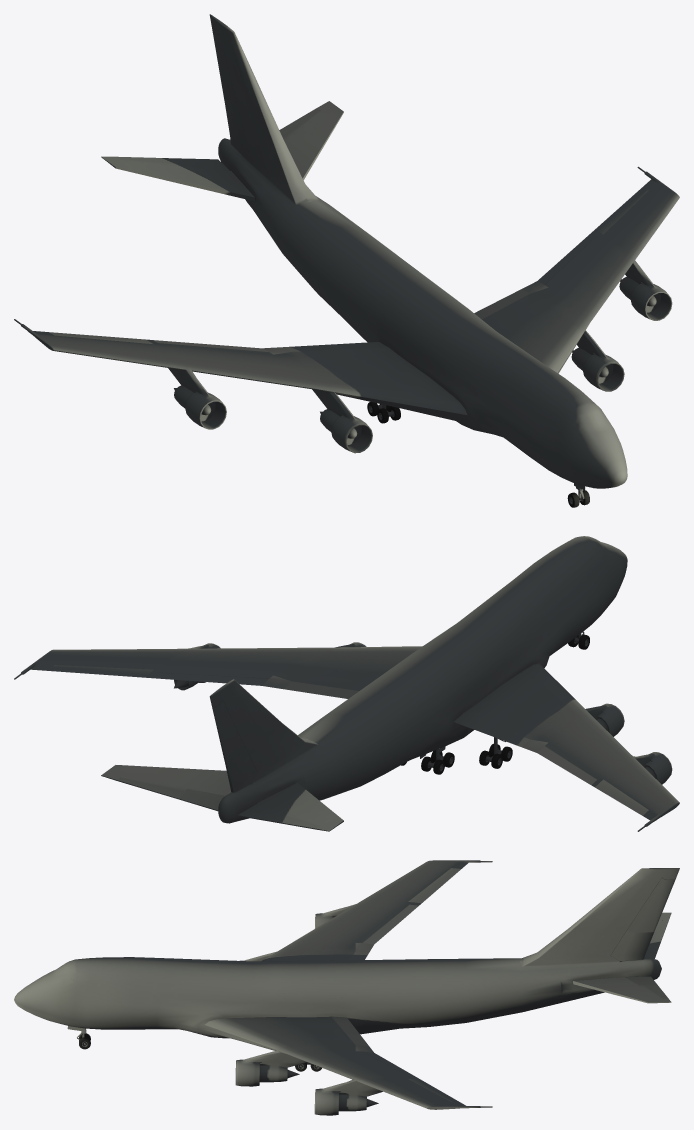
File: boeing_747-100.gltf
3 renders of one model, top to bottom at view 1: azimuth 30°, elevation 25°; view 2: azimuth 150°, elevation 25°; view 3: azimuth 270°, elevation 25°, orthographic. The views are drawn at different scales.
Visible parts, largest first — view 1: body obj, stabilizer R, stabilizer L, rudder upper obj; view 2: body obj, stabilizer L, stabilizer R, rudder upper obj, rudder lower obj, flap R inboard obj, flap L outboard obj, aileron L outboard.001, flap L inboard obj, elevator L outboard obj, flap R outboard obj, elevator L inboard obj (+2 smaller); view 3: body obj, stabilizer L, rudder upper obj, rudder lower obj, flap R outboard obj, aileron R outboard, flap L inboard obj.
Part boxes in pixels (x1,y1,x2,y2): body obj: (14,14,679,488); stabilizer R: (101,156,254,201); stabilizer L: (285,101,343,180); rudder upper obj: (212,30,239,114); body obj: (14,536,679,831); stabilizer L: (101,765,230,795); stabilizer R: (257,782,343,831); rudder upper obj: (212,700,245,763); rudder lower obj: (225,749,257,792); flap R inboard obj: (454,713,529,747); flap L outboard obj: (152,672,268,685); aileron L outboard.001: (48,665,153,677); flap L inboard obj: (284,681,358,698); elevator L outboard obj: (117,777,186,798); flap R outboard obj: (537,746,596,785); elevator L inboard obj: (178,789,224,811); body obj: (14,860,679,1115); stabilizer L: (573,977,671,1003); rudder upper obj: (627,878,675,932); rudder lower obj: (610,930,654,960); flap R outboard obj: (362,904,418,944); aileron R outboard: (408,868,460,903); flap L inboard obj: (332,1017,368,1046).
Bounding box in the file's own units: 59.22 × 20 × 67.63.
Materials: 2 (2 with a texture image).
